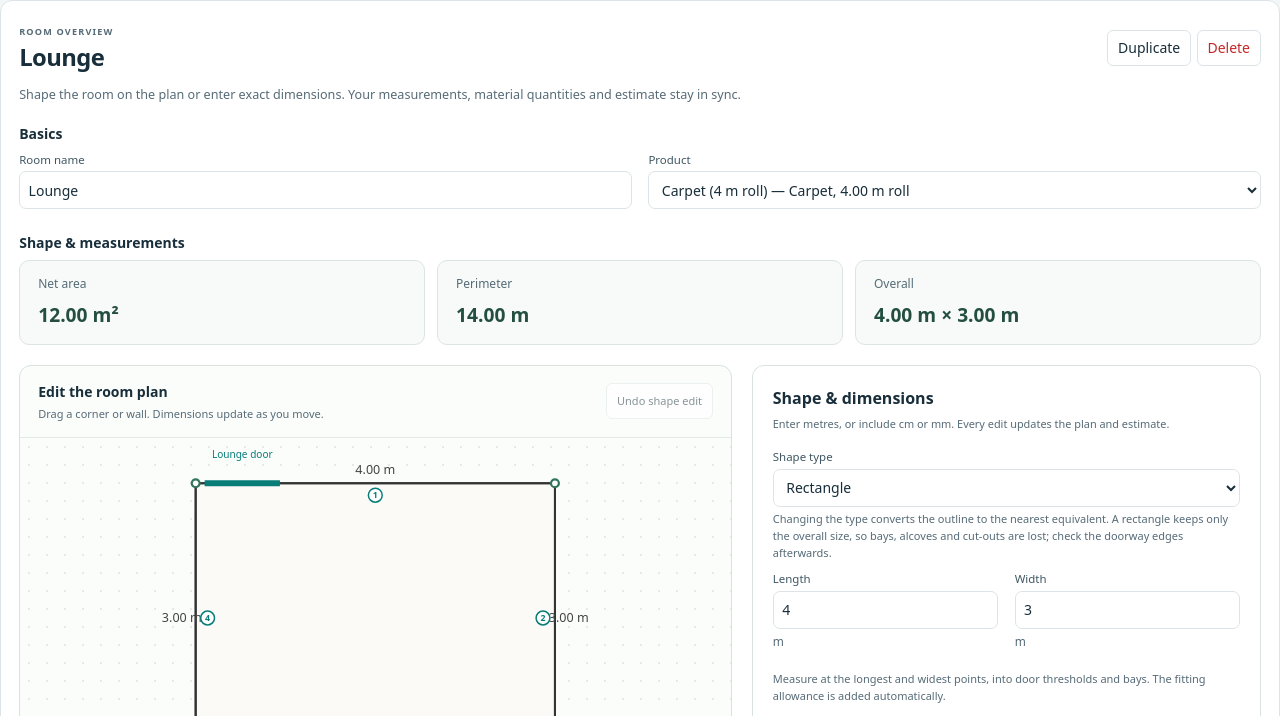
RoomEditor › editing the length writes millimetres to the store and updates the figures
Replace the text in the field named "Room length" with "5": (885, 610) x1=773 y1=590 x2=998 y2=628
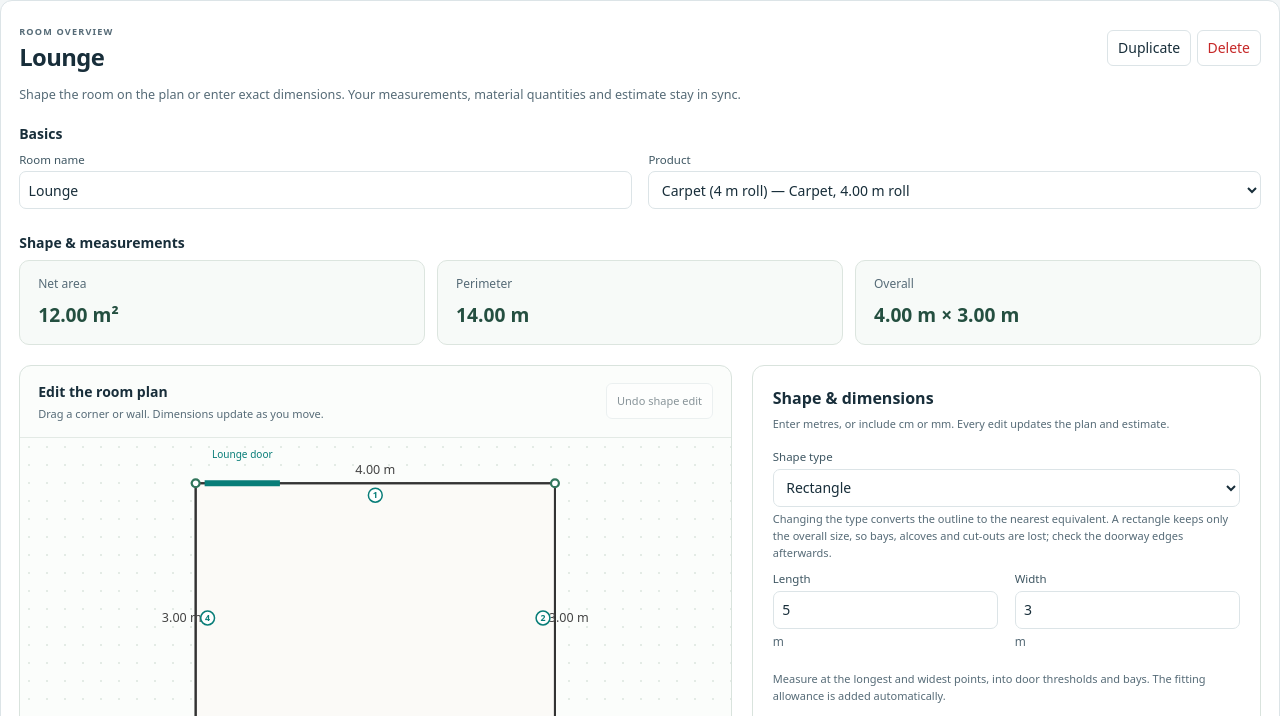
Leave the field named "Room length", box x1=773 y1=590 x2=998 y2=628
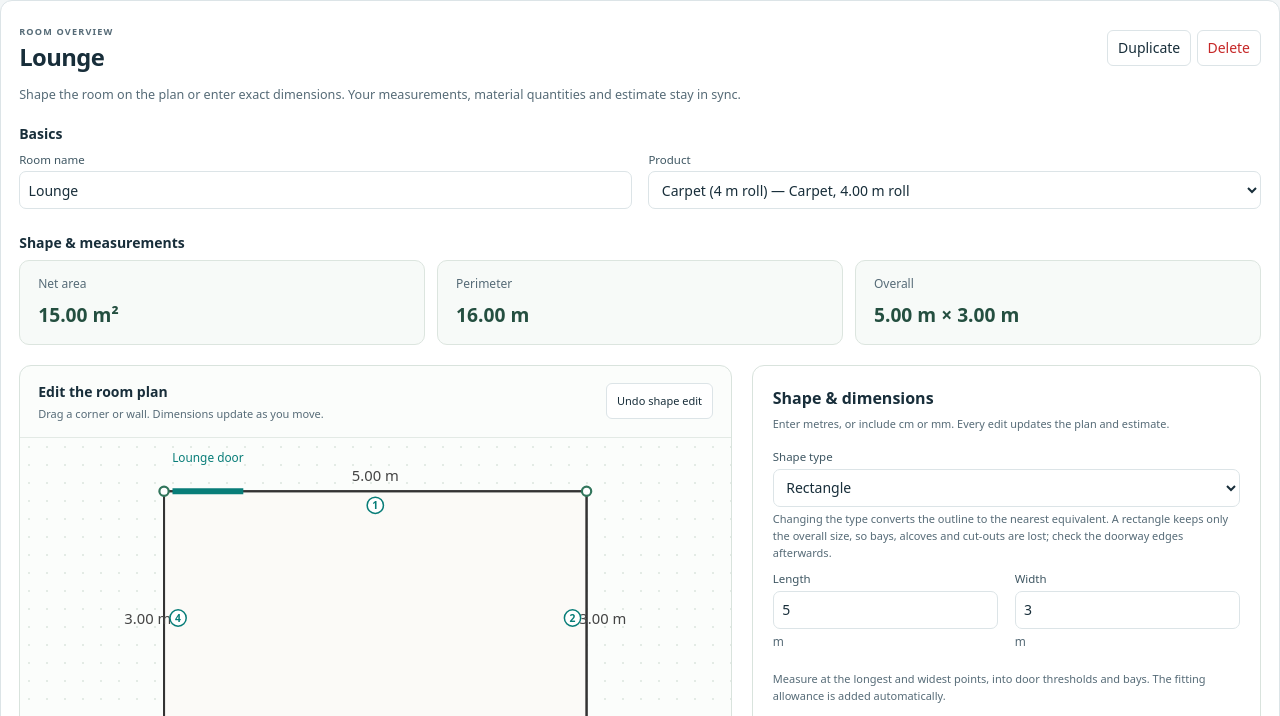
Check: the text with test id "figure-area" reads "15.00 m²", box x1=38 y1=301 x2=119 y2=328
Check: the text with test id "figure-perimeter" reads "16.00 m", box x1=456 y1=301 x2=529 y2=328
